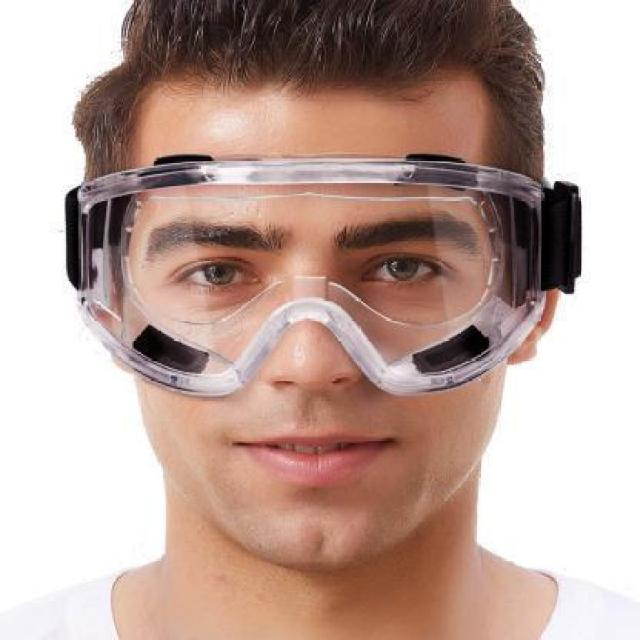face_nomask: (157, 215, 472, 528)
glasses: (62, 162, 582, 398)
head_nohelmet: (72, 0, 558, 122)
